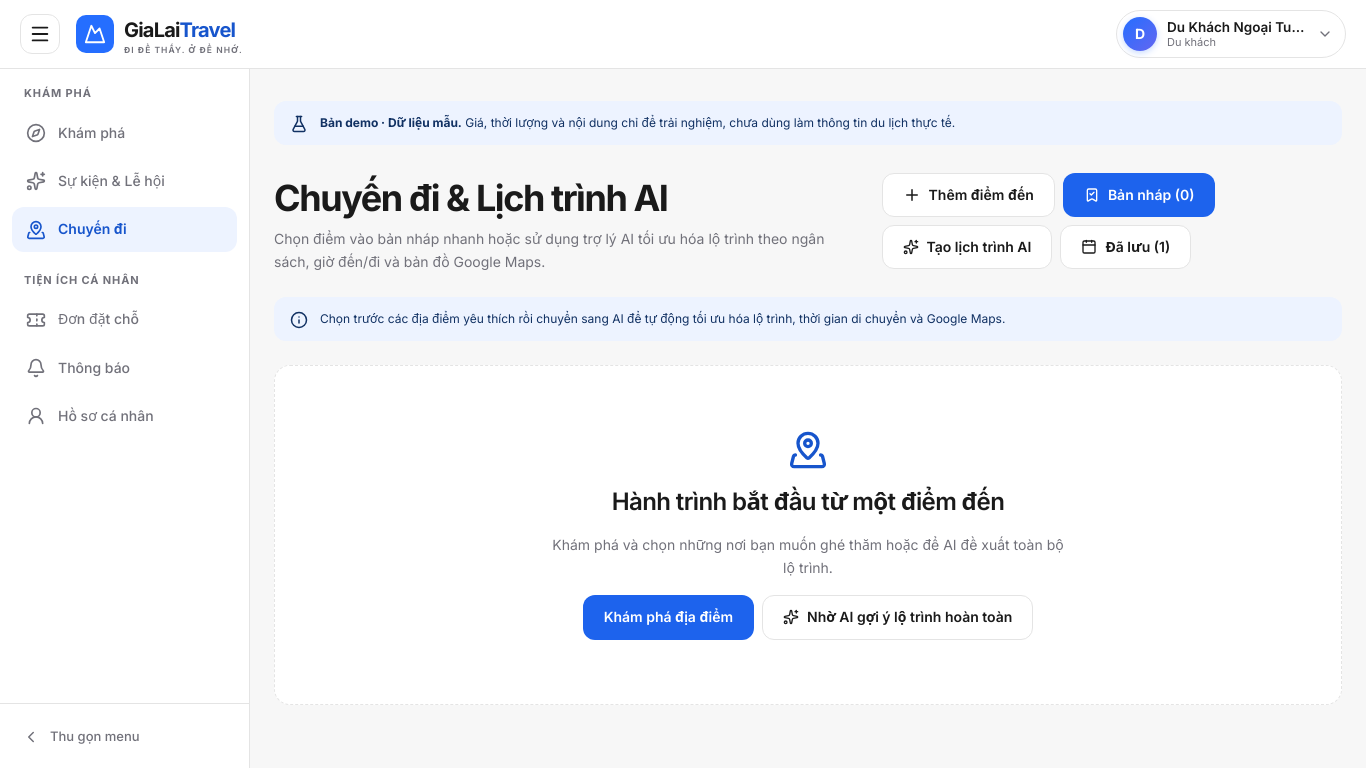
Test: Điều hướng ứng dụng › tải gói ngoại tuyến chuyến đi và xem ở chế độ chỉ đọc khi mất mạng
# Nhấn tab Chuyến đi đã lưu
Click the button "Đã lưu (1)".
click(1126, 247)  # box [1060,225,1191,269]
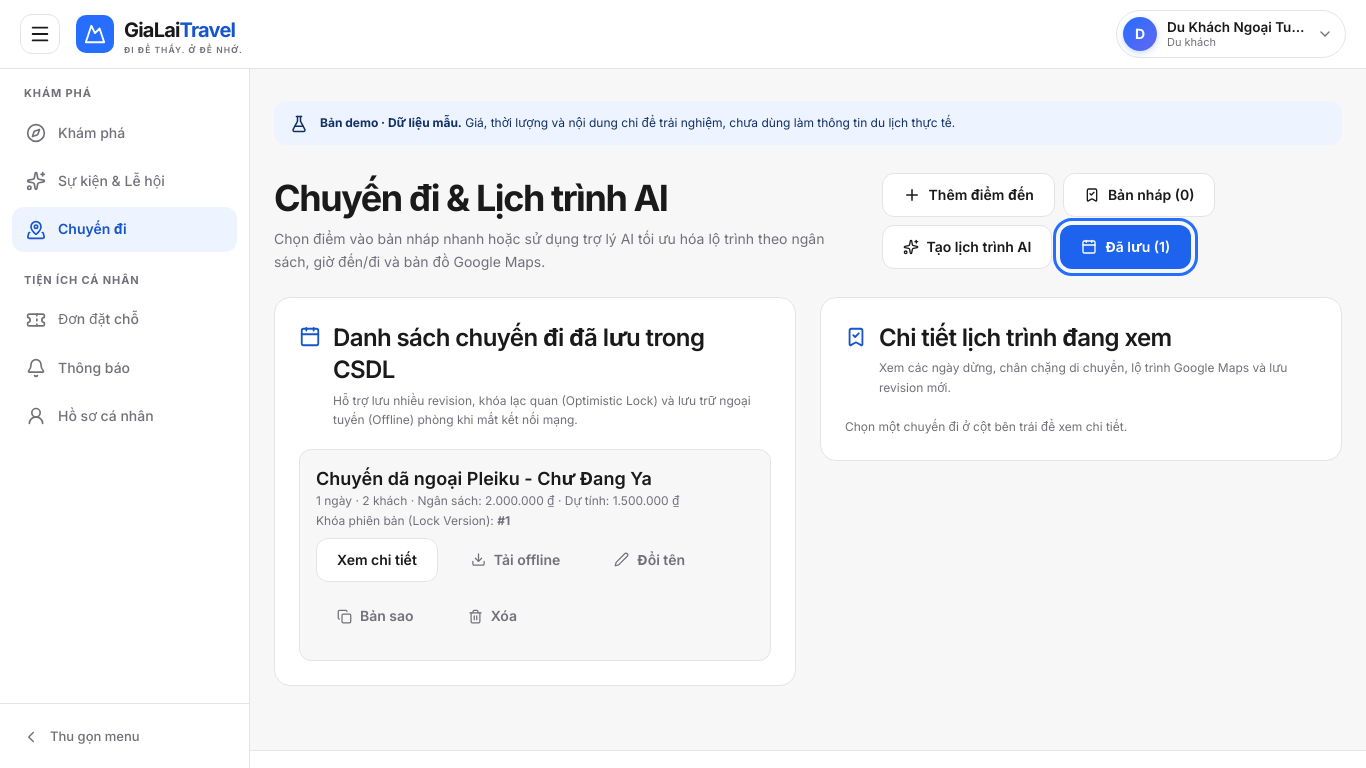
Expected: the heading "Chuyến dã ngoại Pleiku - Chư Đang Ya" is shown, [316,466,652,491]
# Nhấn Tải offline
Click the button "Tải offline".
click(516, 560)  # box [450,538,581,582]
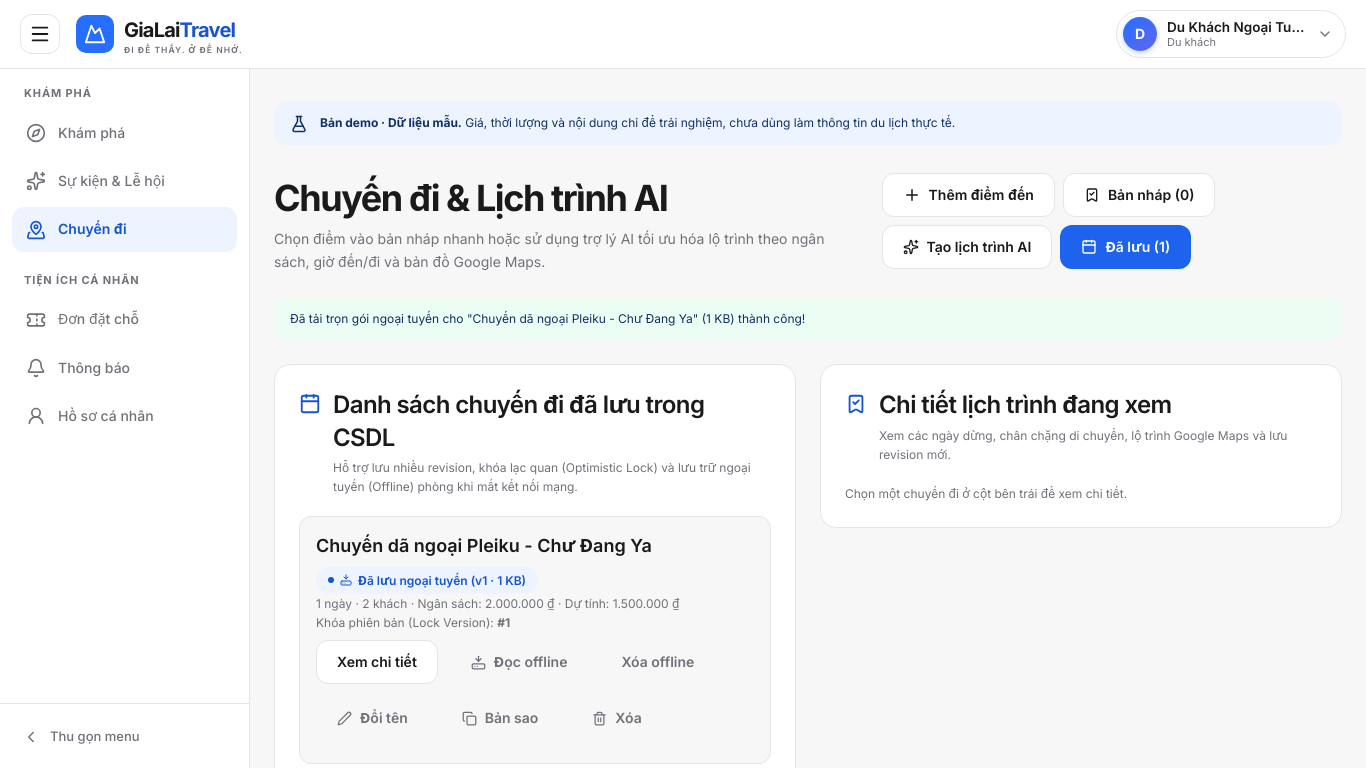
Expected: the text "Đã lưu ngoại tuyến (v1 · 1 KB)" is shown, [316,566,538,594]
Expected: the button "Đọc offline" is shown
# Nhấn Đọc offline
Click the button "Đọc offline".
click(519, 662)  # box [450,640,588,684]
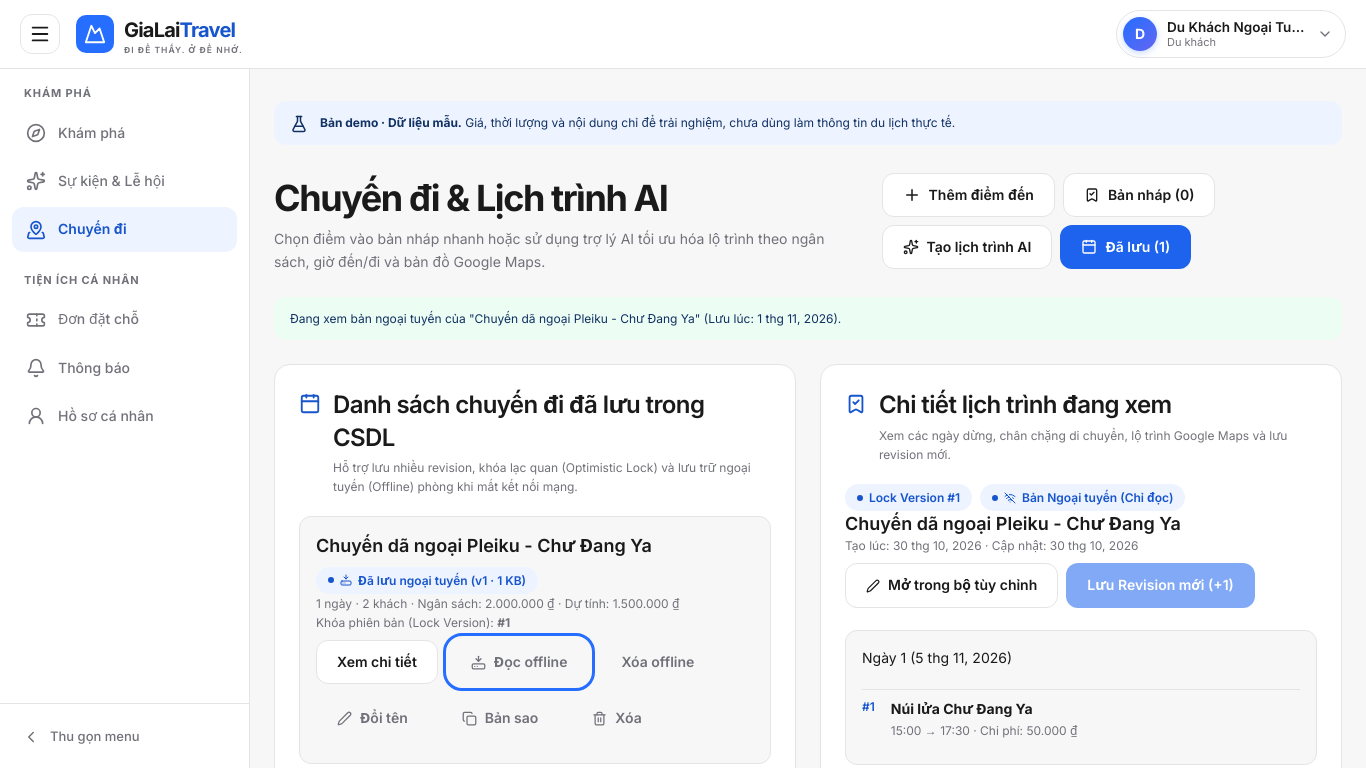
Expected: the text "Bản Ngoại tuyến (Chỉ đọc)" is shown, [980,484,1185,511]
Expected: the text "Núi lửa Chư Đang Ya" is shown, [891,698,1032,721]
